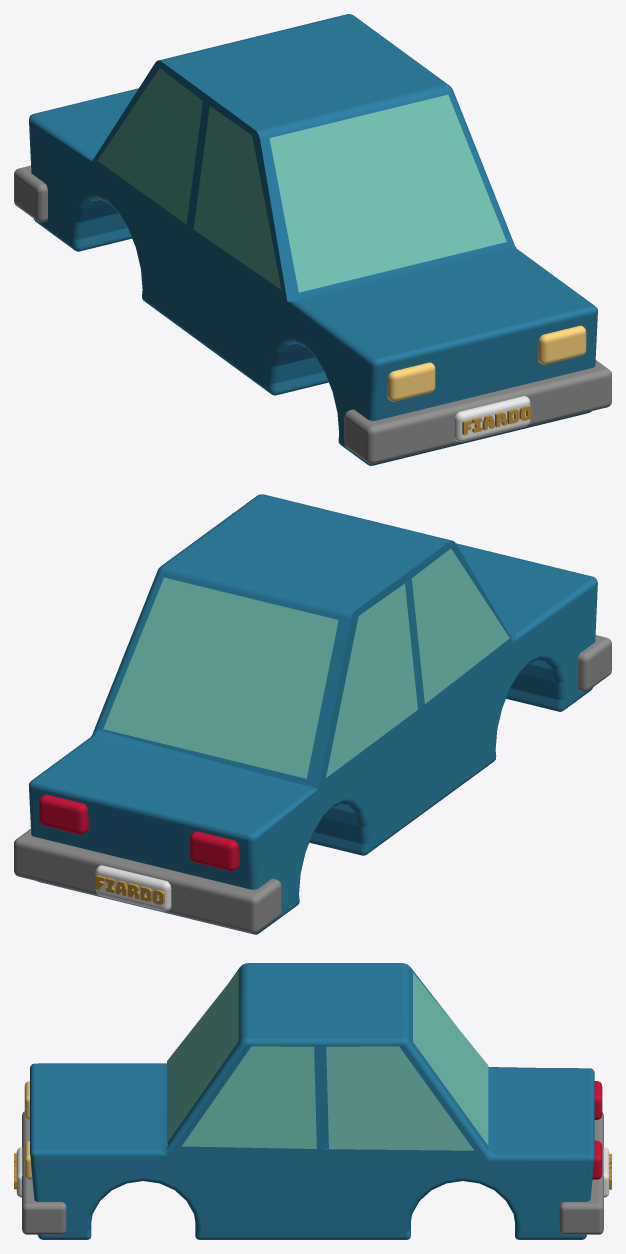
Rendered from vehicle-body_draco.glb.
3 renders of one model, top to bottom at view 1: azimuth 30°, elevation 25°; view 2: azimuth 150°, elevation 25°; view 3: azimuth 270°, elevation 25°, orthographic. The views are drawn at different scales.
Parts seen in each view (by area): view 1: Cube, Text; view 2: Cube, Text.001; view 3: Cube.
Part boxes in pixels (x1,y1,x2,y2): Cube: [14, 14, 611, 465]; Text: [462, 406, 531, 435]; Cube: [14, 494, 611, 934]; Text.001: [95, 875, 164, 904]; Cube: [16, 963, 609, 1239].
Bounding box in the file's own units: 1.73 × 1.62 × 4.5.
